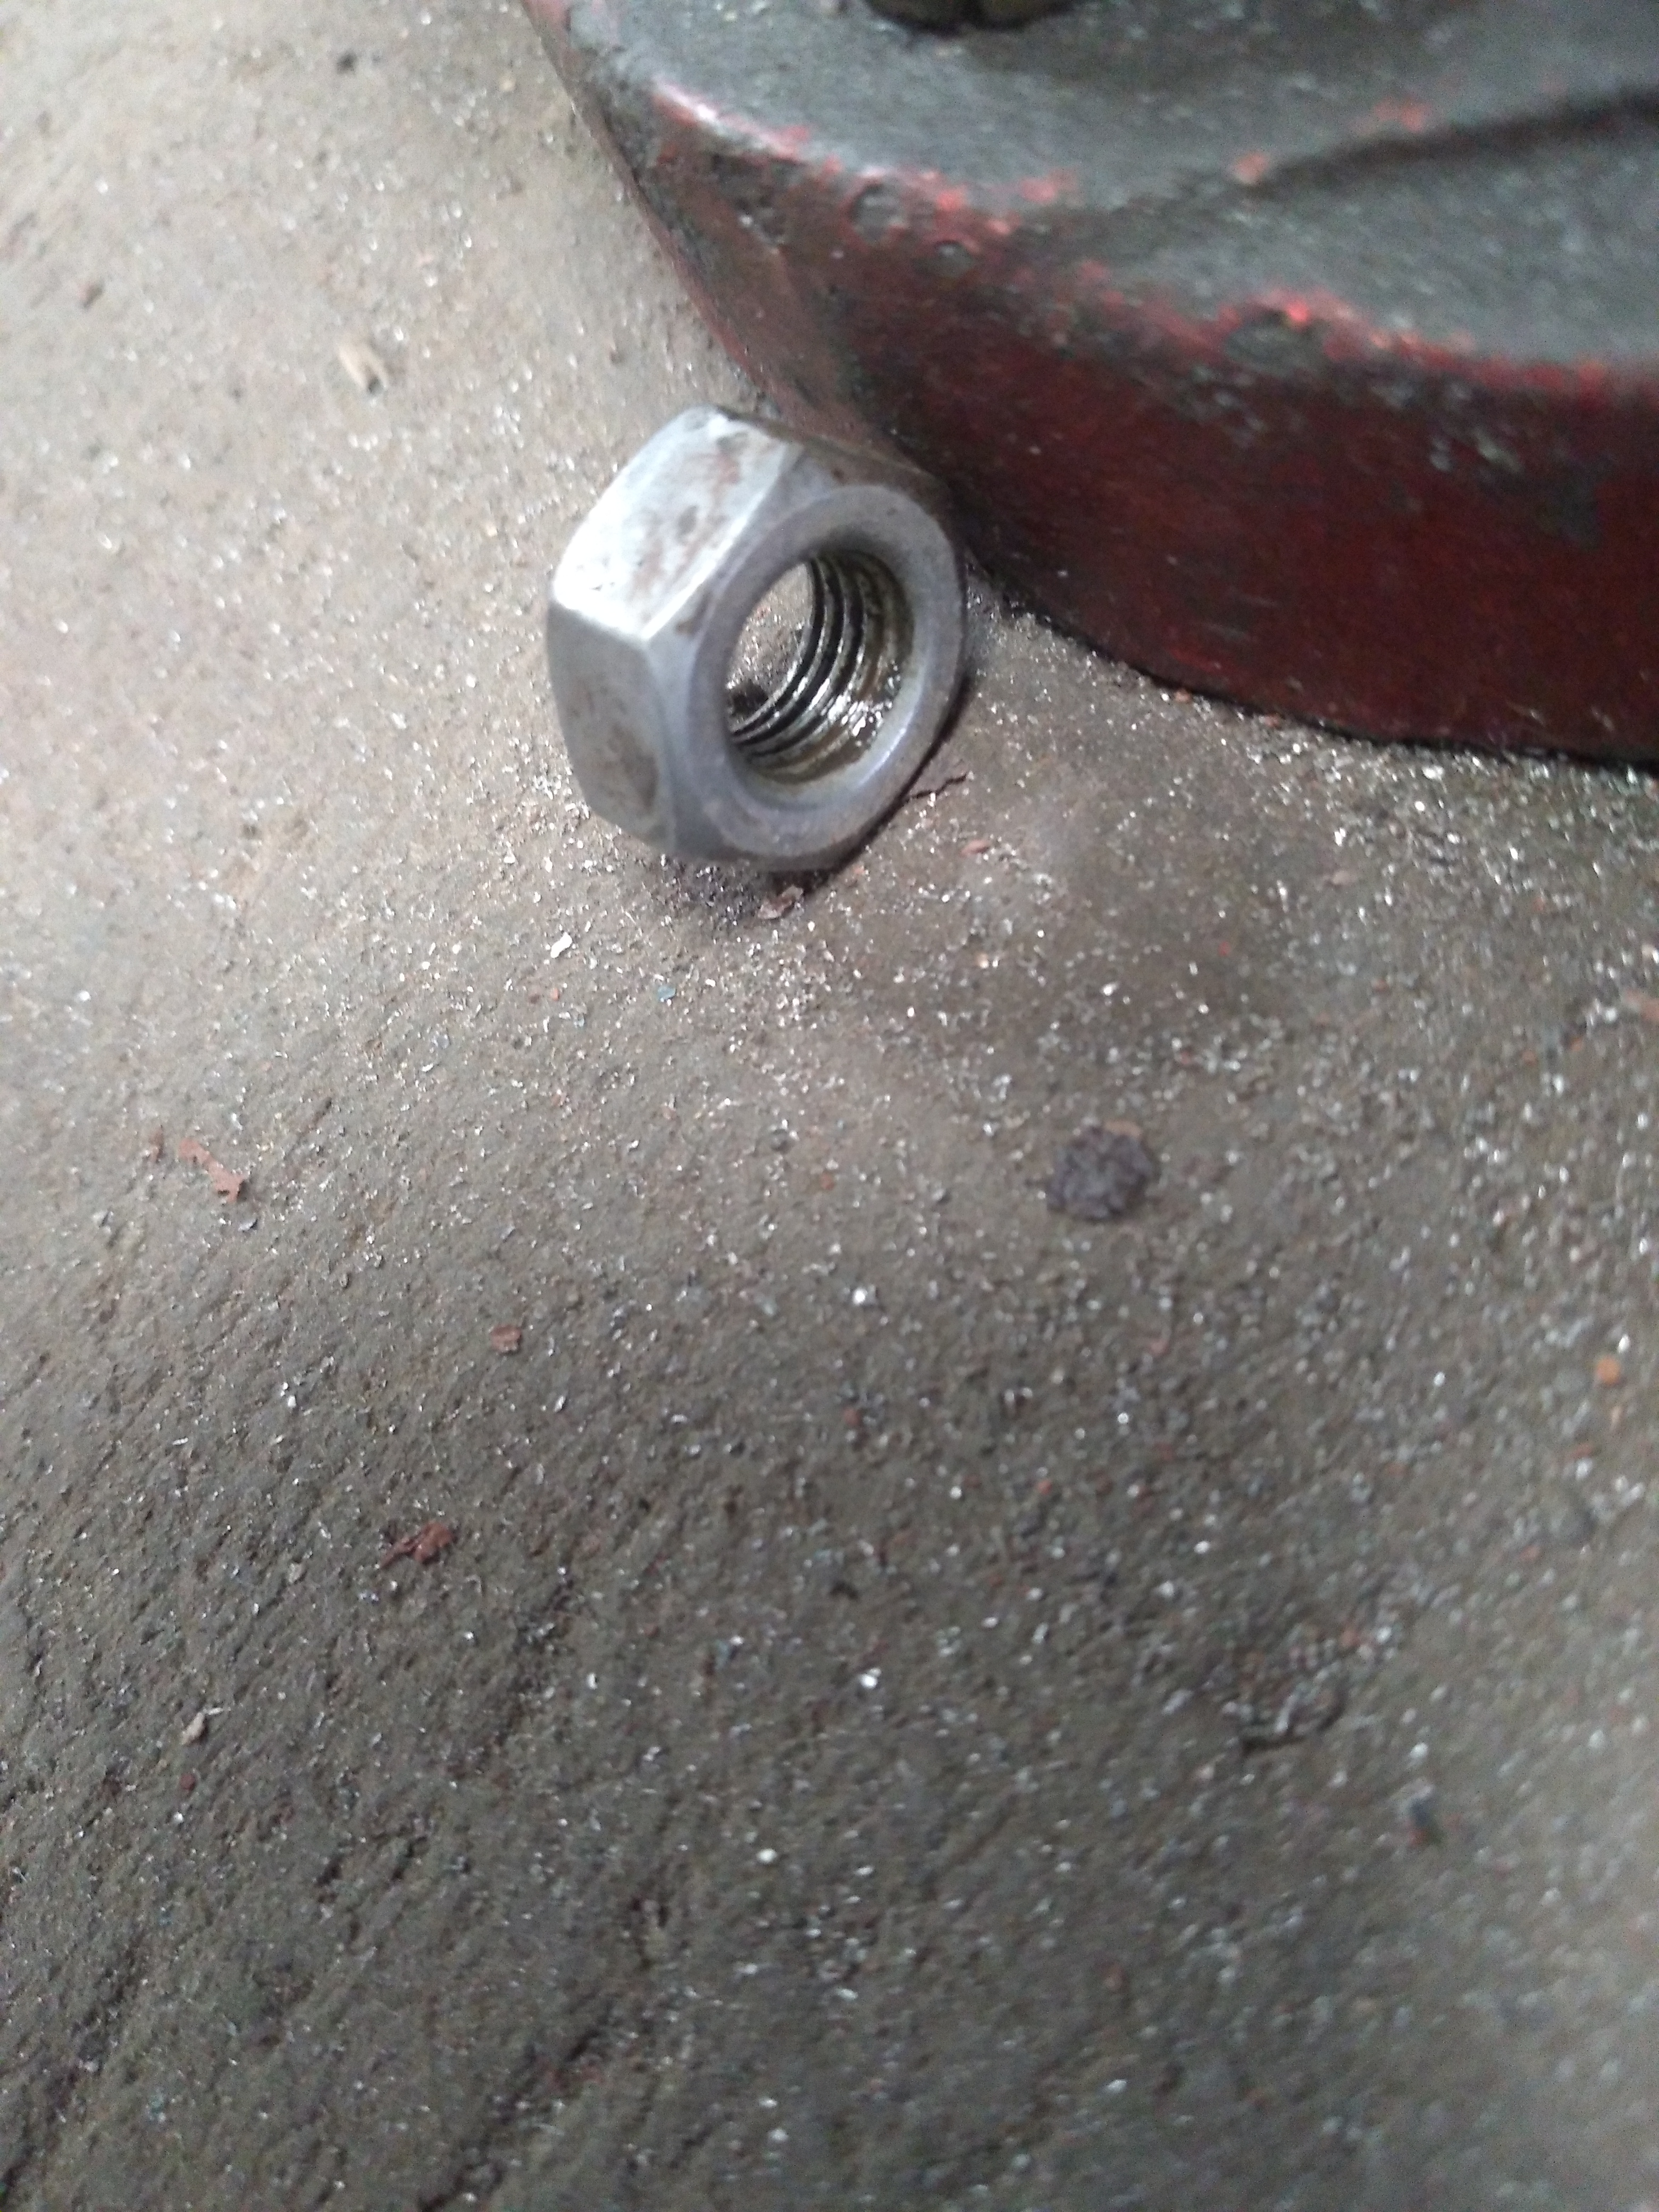Thread: (671, 521, 958, 803)
